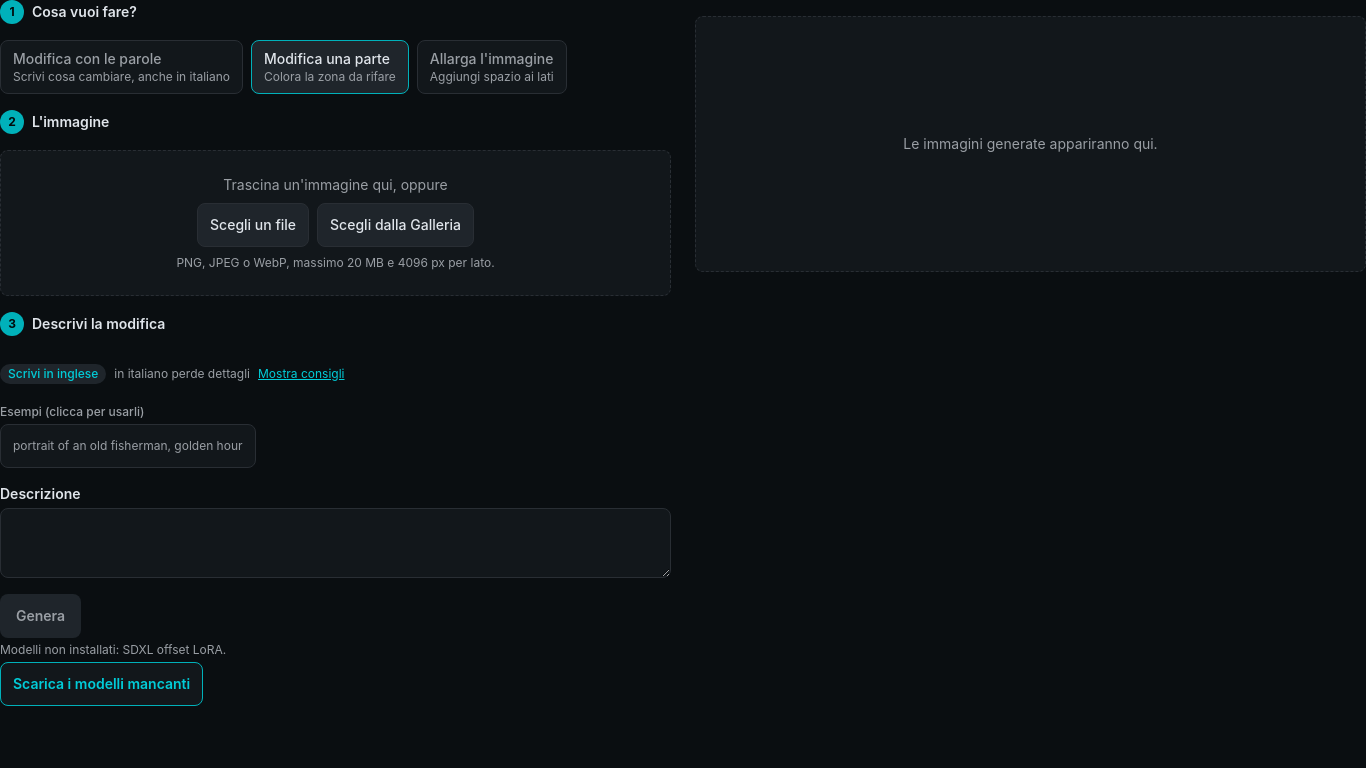
Test: EditPage missing models › offers to download the models the selected mode lacks
Click the button "Scarica i modelli mancanti" at x=102, y=684, box [0, 662, 203, 706]
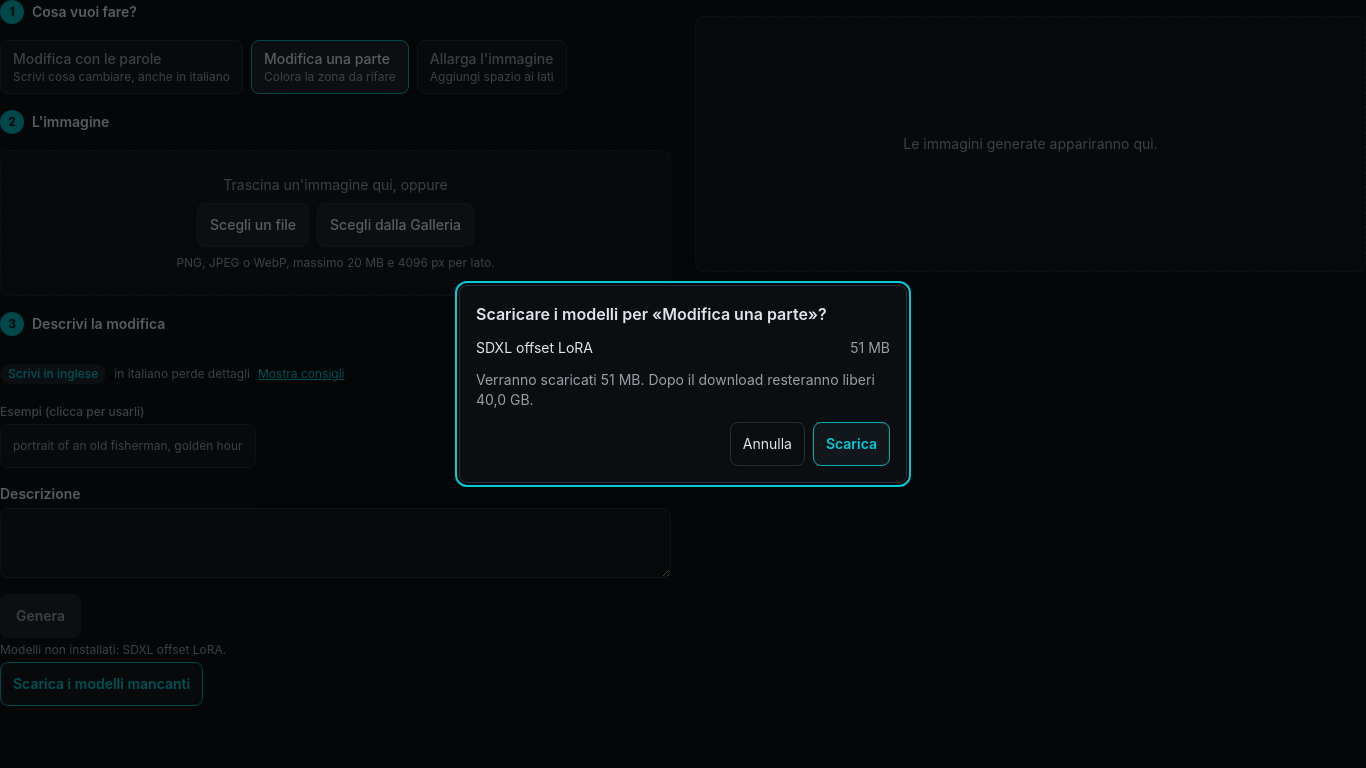
Expected: the text "SDXL offset LoRA" is shown, [476, 338, 593, 358]
Expected: the dialog "Scaricare i modelli per «Modifica una parte»?" is shown, [459, 285, 907, 483]
